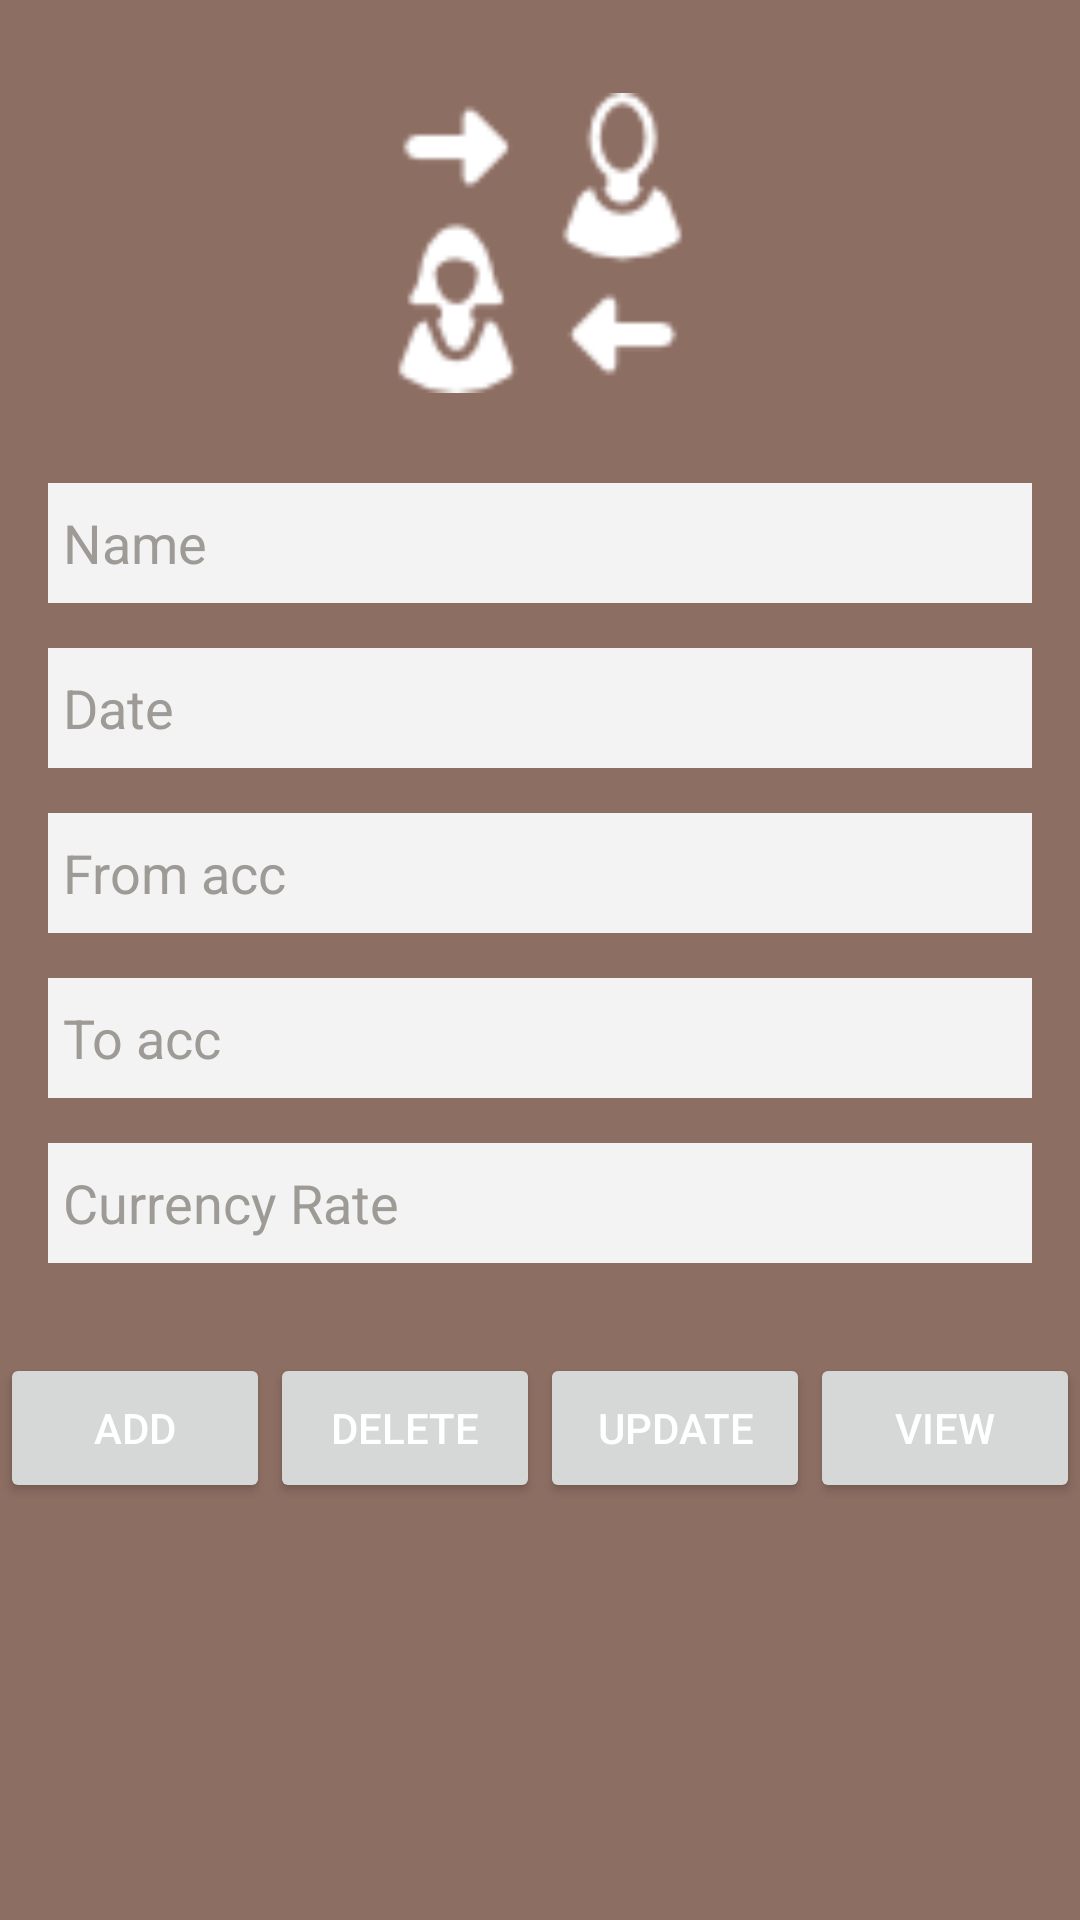

Locate icon controls on the screen. Image size 1080w x 1920h, boxes as detection(x1, y1, x2, y2).
people: detection(398, 93, 682, 393)
